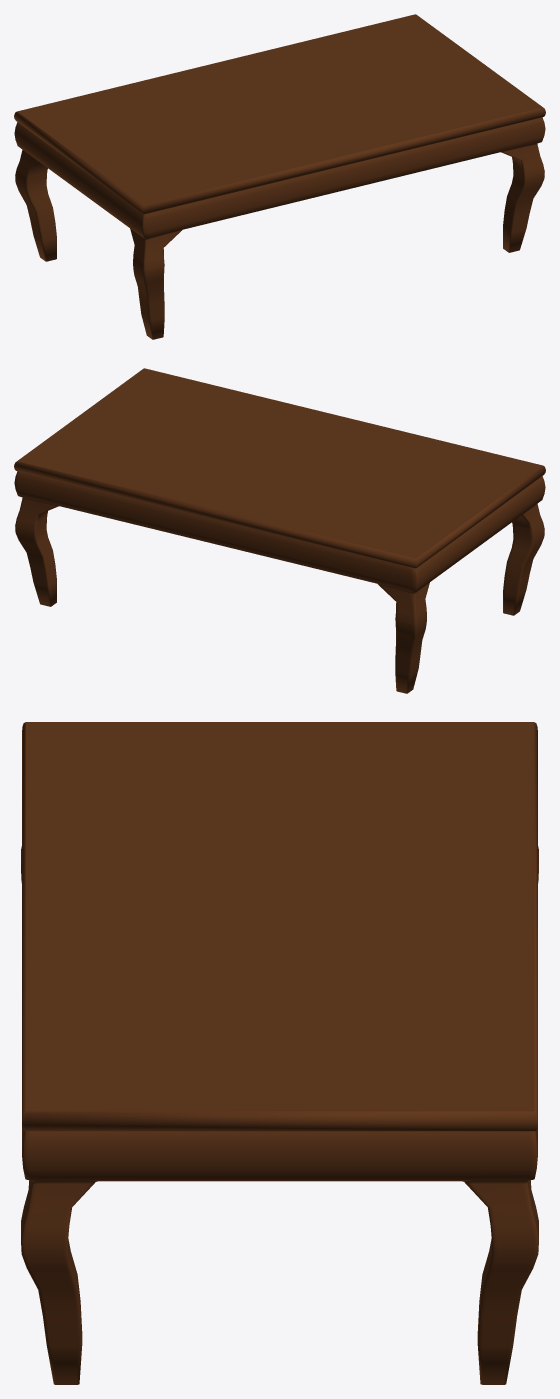
File: asali.glb
The picture shows the model from 3 angles, top to bottom: view 1: azimuth 30°, elevation 25°; view 2: azimuth 150°, elevation 25°; view 3: azimuth 270°, elevation 25°; orthographic projection. The views are drawn at different scales.
Visible parts, largest first — view 1: table.001; view 2: table.001; view 3: table.001.
Part boxes in pixels (x1,y1,x2,y2): table.001: (14,14,545,339); table.001: (14,368,545,693); table.001: (21,722,538,1384).
Bounding box in the file's own units: 2.02 × 0.6925 × 1.13.
